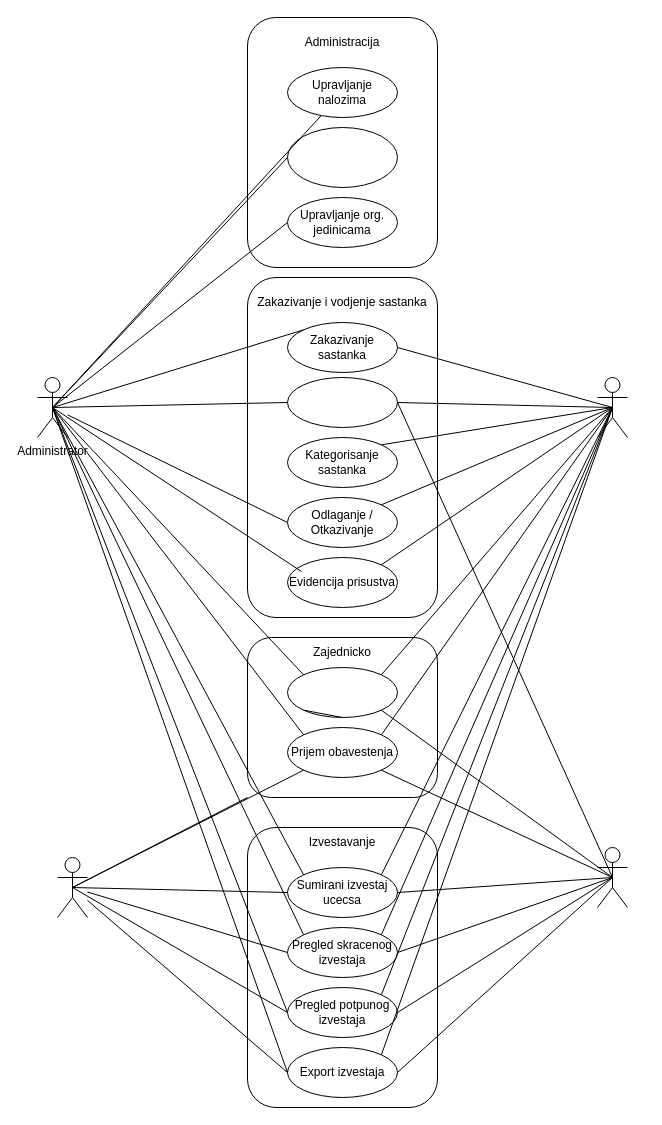
Some shapes in this 662 by 1125 pixel diagram are drawn without their labels. Each missing label, with the centre of its shape:
Definisanje dnevnog reda: point 342,402
Dodela privremenih uloga: point 342,157
Prijava / Odjava: point 342,692
Rukovodilac: point 612,407
Ucesnik: point 72,887
Zapisnicar: point 612,877
